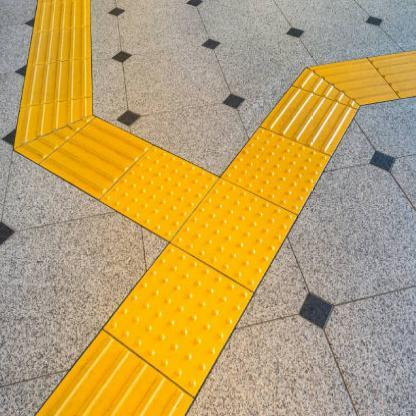podotacti: (12, 0, 416, 414)
